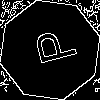P: (25, 25, 78, 69)
